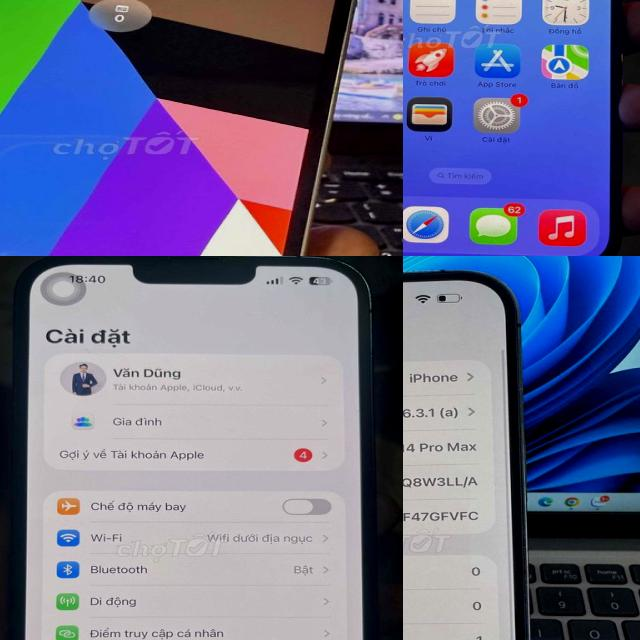gen_12_13: (12, 256, 380, 640), (0, 0, 379, 256)
gen_14: (403, 265, 559, 640), (403, 0, 629, 256)
